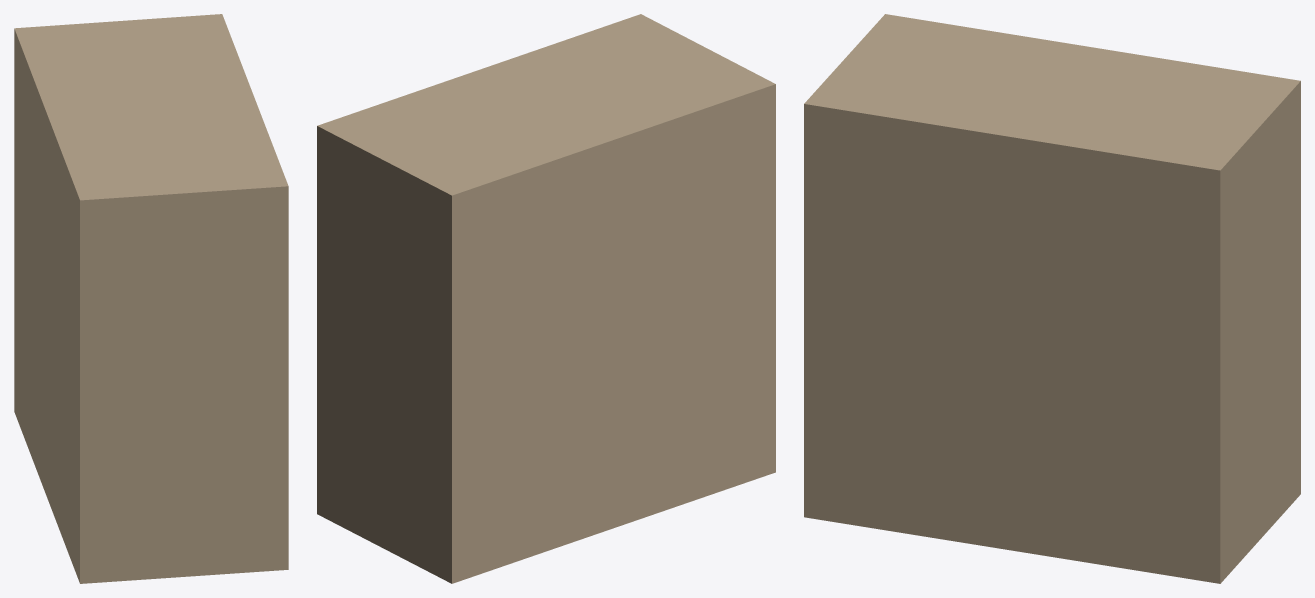
Rendered from bld_101353703.dae.
3 views of the same model, side by side, from view 1: azimuth 30°, elevation 25°; view 2: azimuth 150°, elevation 25°; view 3: azimuth 270°, elevation 25° (orthographic). The views are drawn at different scales.
Visible parts, largest first — view 1: bld_101353703; view 2: bld_101353703; view 3: bld_101353703.
Boxes of the visible parts, bbox=[...] form: bld_101353703: bbox=[14, 14, 288, 583]; bld_101353703: bbox=[317, 14, 775, 583]; bld_101353703: bbox=[804, 14, 1300, 583].
Size of the model in its own units: 6.5 by 8.71 by 8.
